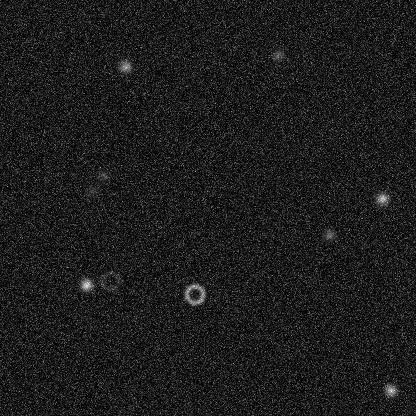Ring: (182, 282, 206, 306), (98, 268, 122, 292)
Spot: (117, 58, 133, 74), (95, 167, 111, 183), (269, 47, 285, 63), (78, 276, 94, 292), (382, 382, 398, 398), (374, 190, 390, 206), (321, 226, 337, 242), (83, 182, 99, 198)
